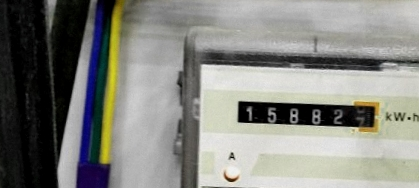1: (243, 104, 254, 123)
2: (331, 107, 343, 125)
5: (264, 105, 277, 123)
7: (353, 114, 365, 128)
8: (287, 106, 299, 124), (310, 107, 321, 124)
screen: (228, 89, 386, 137)
